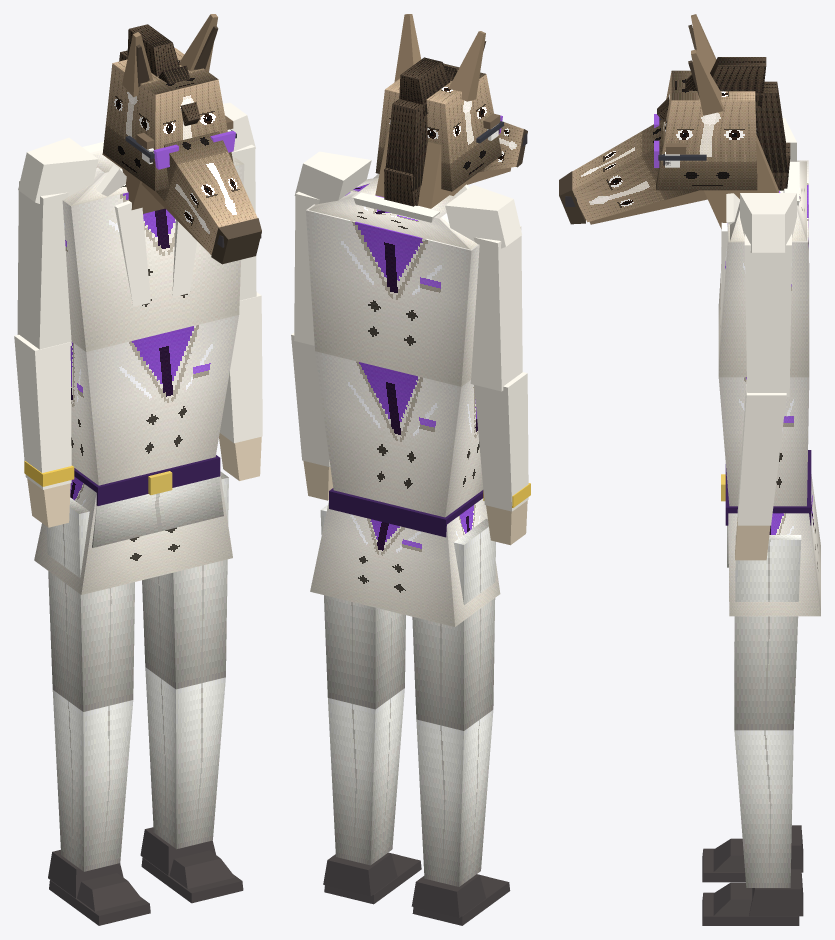
The model's file is npc_patrick.glb.
3 views of the same model, side by side, from view 1: azimuth 30°, elevation 25°; view 2: azimuth 150°, elevation 25°; view 3: azimuth 270°, elevation 25° (orthographic). The views are drawn at different scales.
Parts seen in each view (by area): view 1: body, legL, legR, head, armL, armR; view 2: body, legL, legR, head, armL, armR; view 3: head, body, legR, armR, legL.
Boxes of the visible parts, bbox=[...] form: body: bbox=[18, 102, 255, 594]; legL: bbox=[46, 497, 150, 925]; legR: bbox=[140, 471, 243, 903]; head: bbox=[102, 14, 261, 264]; armL: bbox=[14, 180, 74, 527]; armR: bbox=[219, 144, 262, 480]; body: bbox=[294, 151, 521, 626]; legL: bbox=[411, 519, 510, 925]; legR: bbox=[320, 505, 421, 904]; head: bbox=[375, 14, 527, 208]; armL: bbox=[470, 226, 530, 545]; armR: bbox=[291, 191, 333, 500]; head: bbox=[559, 14, 790, 229]; body: bbox=[718, 118, 820, 616]; legR: bbox=[702, 535, 803, 925]; armR: bbox=[735, 233, 791, 560]; legL: bbox=[702, 616, 803, 882].
Size of the model in its own units: 0.5757 by 2.15 by 0.5942.
Materials: 23 (4 with a texture image).
